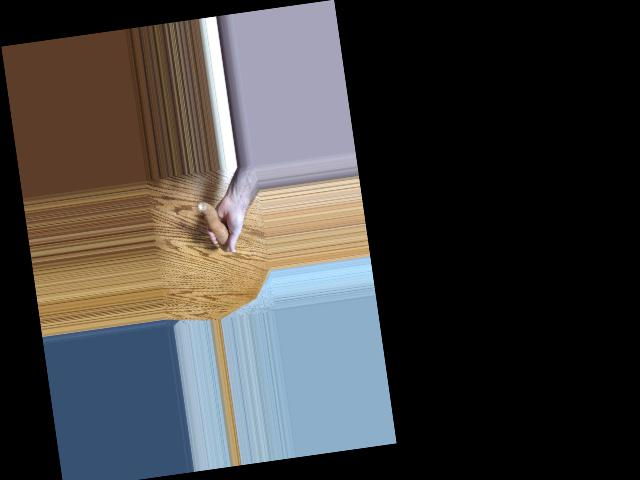sweet_potato: (198, 196, 233, 254)
